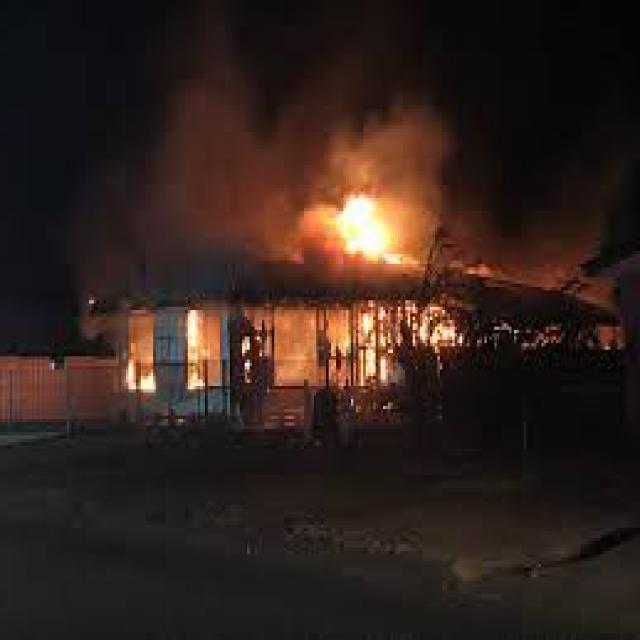Fire: (62, 290, 514, 422), (286, 190, 436, 276)
Smoke: (99, 49, 352, 218)
